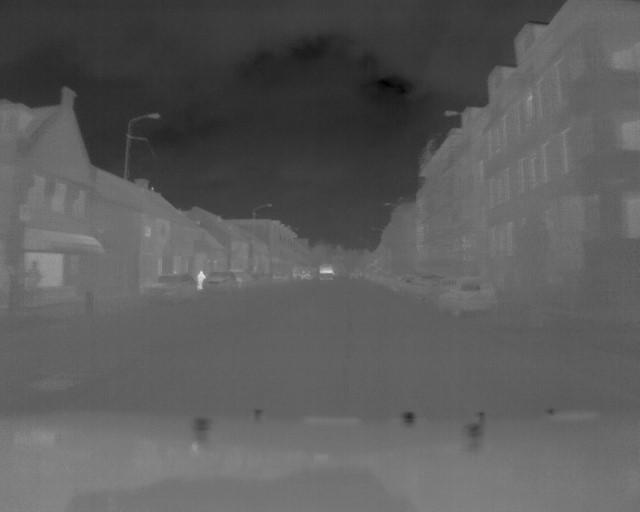car: (319, 261, 334, 284)
person: (195, 270, 207, 290)
